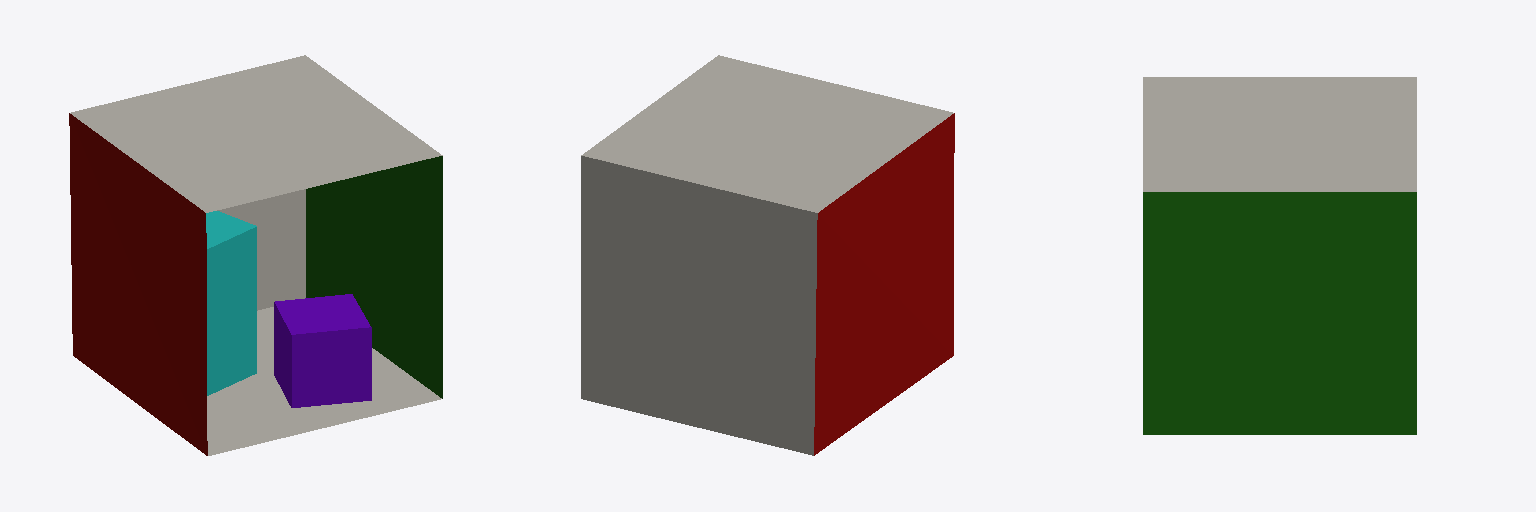
The model's file is corneil.obj.
3 views of the same model, side by side, from view 1: azimuth 30°, elevation 25°; view 2: azimuth 150°, elevation 25°; view 3: azimuth 270°, elevation 25° (orthographic).
Visible parts, largest first — view 1: Object_5, Object_3, Object_7, Object_4, Object_8, Object_9, Object_2; view 2: Object_2, Object_5, Object_3; view 3: Object_7, Object_3.
Boxes of the visible parts, box(x1,y1,x2,y2) form: Object_5: box(69, 113, 207, 455); Object_3: box(70, 55, 442, 212); Object_7: box(306, 156, 442, 398); Object_4: box(207, 307, 441, 455); Object_8: box(274, 294, 371, 407); Object_9: box(206, 211, 256, 395); Object_2: box(217, 189, 305, 310); Object_2: box(581, 156, 817, 455); Object_5: box(814, 113, 954, 455); Object_3: box(581, 55, 953, 212); Object_7: box(1143, 192, 1416, 434); Object_3: box(1143, 77, 1416, 191).
Size of the model in its own units: 2.02 by 1.99 by 2.03.